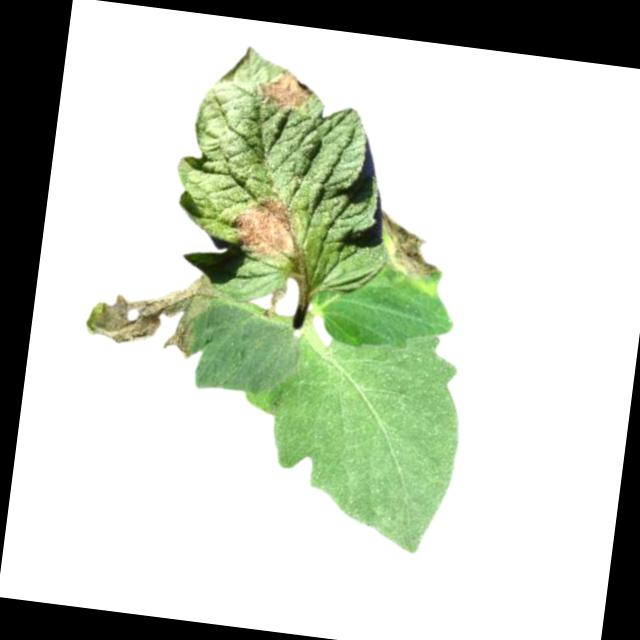Late_blight: (83, 258, 221, 363), (372, 208, 456, 298), (227, 192, 310, 267), (253, 61, 318, 115)
